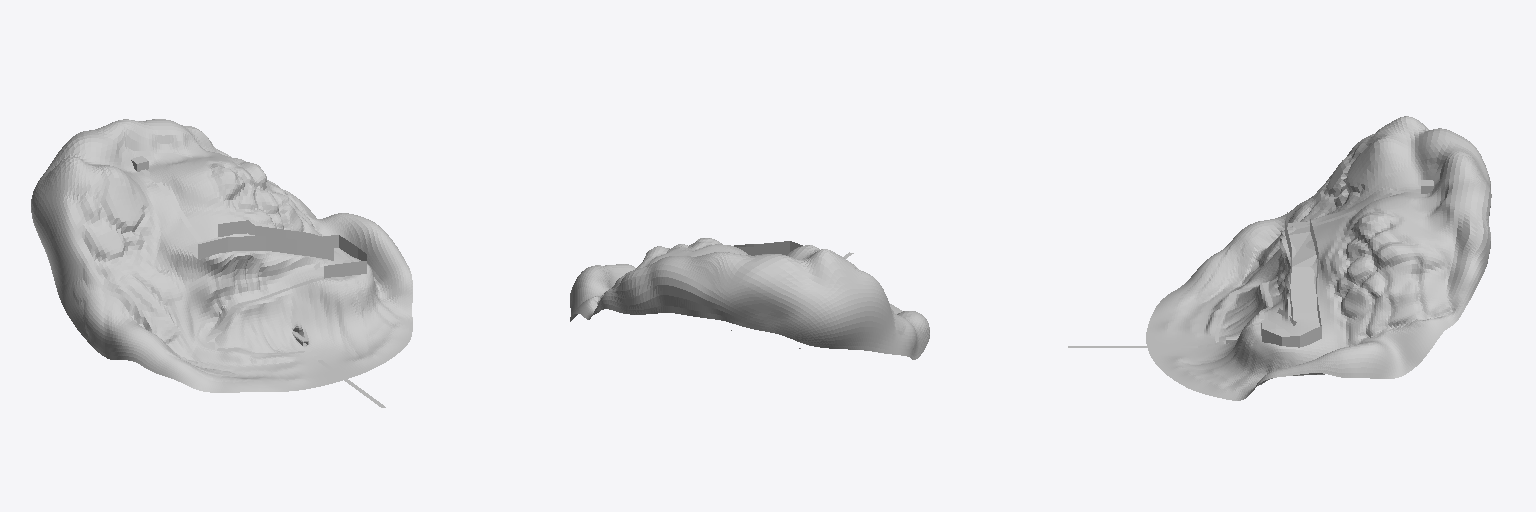
File: neracla_mountain.obj
3 views of the same model, side by side, from view 1: azimuth 30°, elevation 25°; view 2: azimuth 150°, elevation 25°; view 3: azimuth 270°, elevation 25° (orthographic).
Parts seen in each view (by area): view 1: Mountain_Plane.002, OffroadCollision_Plane.004, Road_Plane.003; view 2: Mountain_Plane.002, OffroadCollision_Plane.004; view 3: Mountain_Plane.002, OffroadCollision_Plane.004, Road_Plane.003.
Part boxes in pixels (bbox=[...]): Mountain_Plane.002: bbox=[31, 119, 412, 392]; OffroadCollision_Plane.004: bbox=[188, 220, 366, 278]; Road_Plane.003: bbox=[206, 277, 347, 354]; Mountain_Plane.002: bbox=[570, 238, 929, 359]; OffroadCollision_Plane.004: bbox=[734, 241, 802, 255]; Mountain_Plane.002: bbox=[1146, 116, 1491, 400]; OffroadCollision_Plane.004: bbox=[1261, 212, 1321, 347]; Road_Plane.003: bbox=[1215, 281, 1272, 342].
Size of the model in its own units: 891 by 429 by 1017.